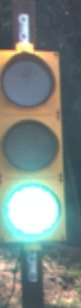Green: (4, 20, 77, 260)
